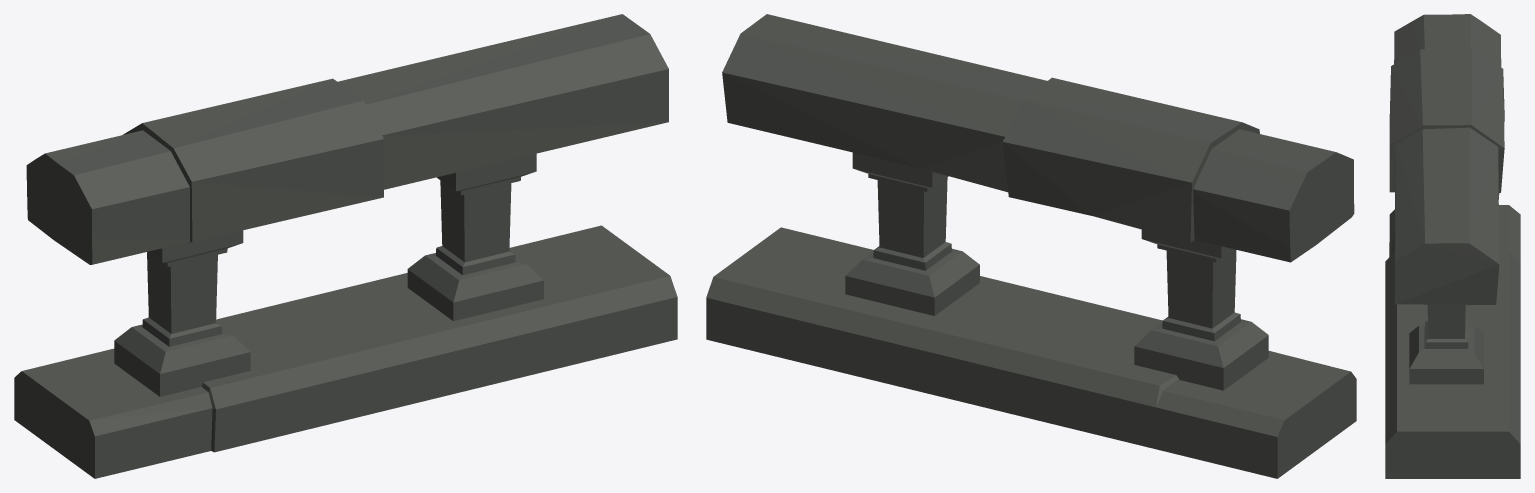
Rendered from MDungeon_Baluster_01_Straight_Half.FBX.
The picture shows the model from 3 angles, left to right: view 1: azimuth 30°, elevation 25°; view 2: azimuth 150°, elevation 25°; view 3: azimuth 270°, elevation 25°; orthographic projection. The views are drawn at different scales.
Parts seen in each view (by area): view 1: MDungeon_Baluster_01_Straight_Half_LOD0; view 2: MDungeon_Baluster_01_Straight_Half_LOD0; view 3: MDungeon_Baluster_01_Straight_Half_LOD0.
Part boxes in pixels (bbox=[...]): MDungeon_Baluster_01_Straight_Half_LOD0: bbox=[14, 14, 677, 478]; MDungeon_Baluster_01_Straight_Half_LOD0: bbox=[706, 14, 1356, 478]; MDungeon_Baluster_01_Straight_Half_LOD0: bbox=[1385, 14, 1520, 478].
Size of what is drawn, in the model's own units: 3.09 by 1.5 by 0.7658.
